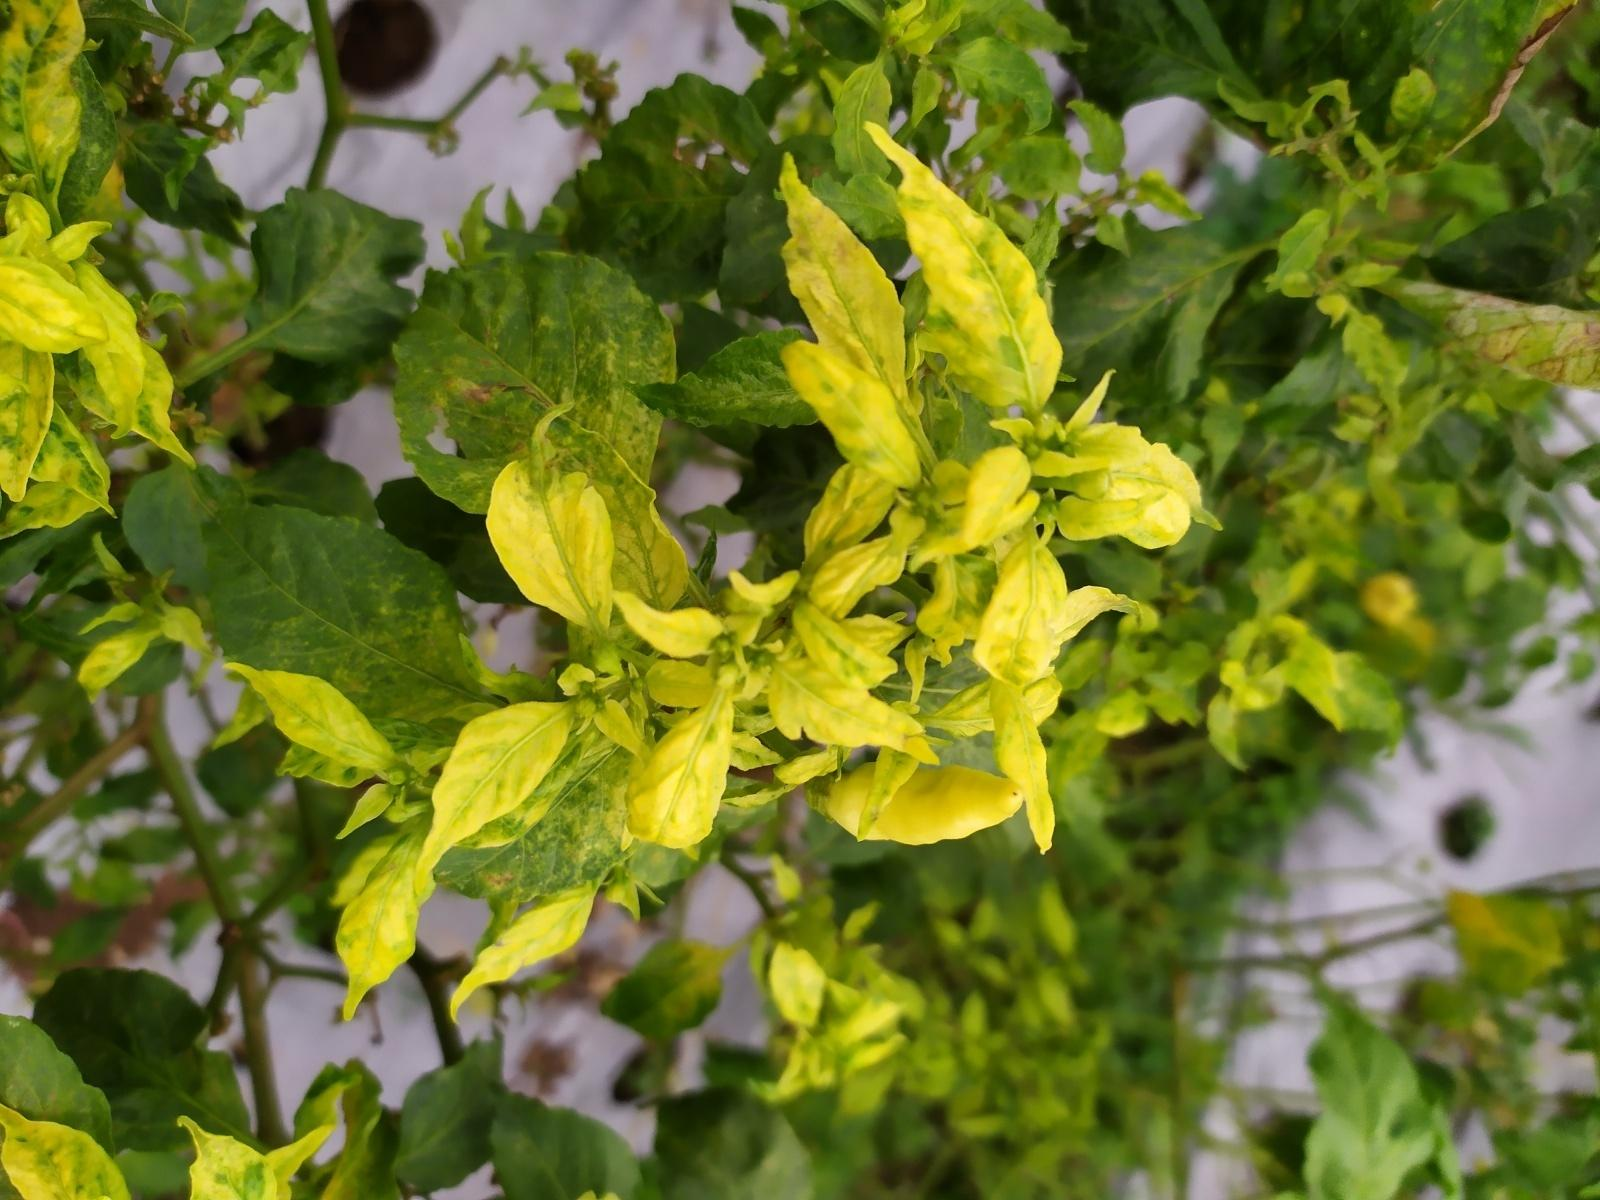cabai_normal: (831, 759, 1020, 845)
